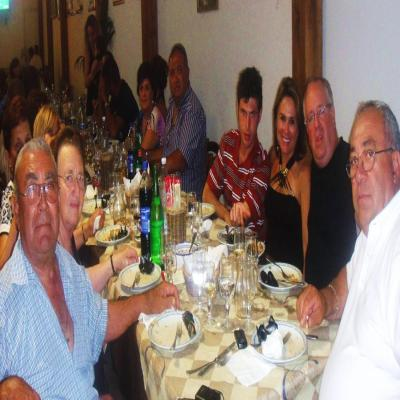happy: (278, 97, 297, 152)
netural: (350, 119, 388, 228), (23, 157, 60, 252), (239, 97, 257, 147), (169, 56, 185, 96), (138, 79, 153, 108)
sad: (60, 152, 86, 229)
surprise: (306, 90, 334, 161)
